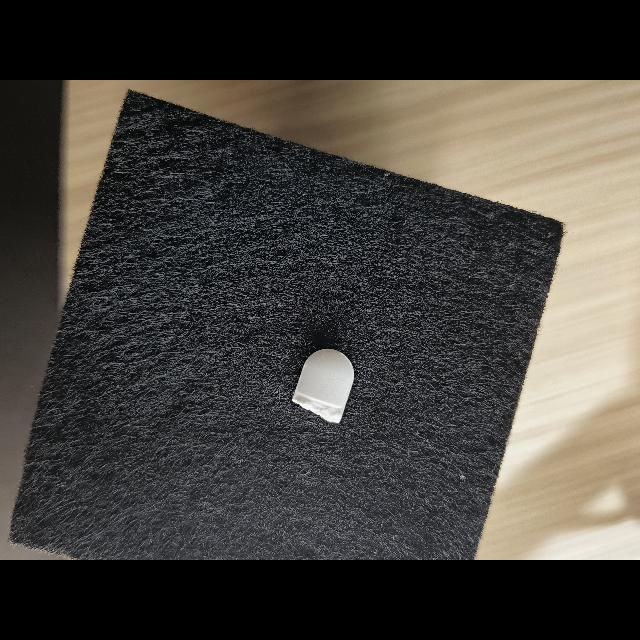Chipped Pill: (292, 349, 354, 423)
